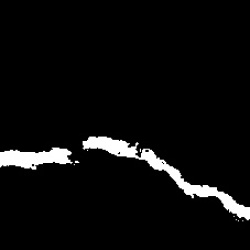crack: (81, 136, 248, 220), (1, 148, 80, 172)
